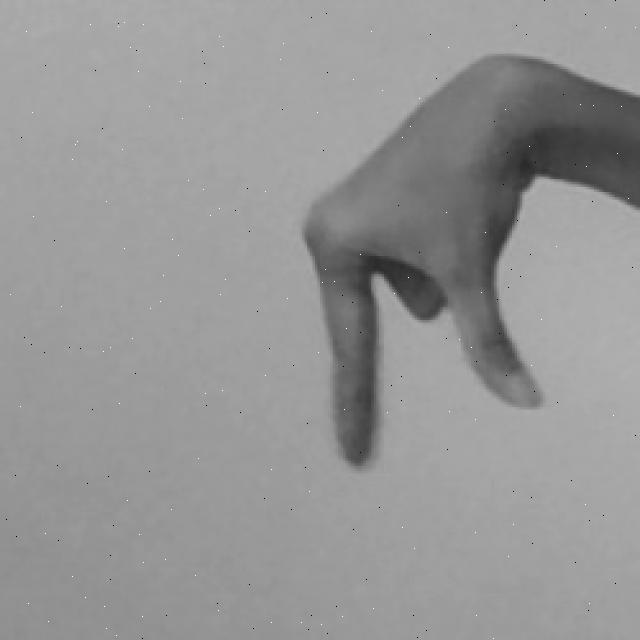Q: (286, 46, 640, 484)
